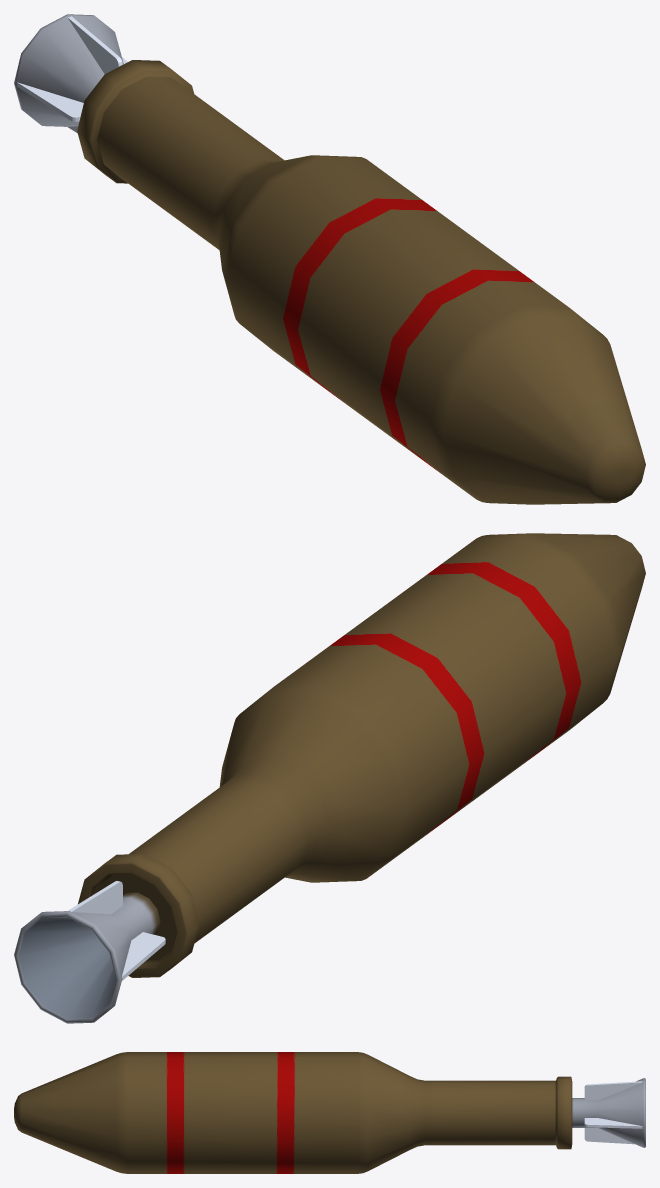
File: IgnitionRocket.fbx
The picture shows the model from 3 angles, top to bottom: view 1: azimuth 30°, elevation 25°; view 2: azimuth 150°, elevation 25°; view 3: azimuth 270°, elevation 25°; orthographic projection. The views are drawn at different scales.
Visible parts, largest first — view 1: Cylinder; view 2: Cylinder; view 3: Cylinder.
Part boxes in pixels (left/top/right/bottom): Cylinder: left=14, top=14, right=645, bottom=504; Cylinder: left=14, top=533, right=645, bottom=1023; Cylinder: left=14, top=1052, right=645, bottom=1173.
Size of the model in its own units: 101 by 101 by 522.
